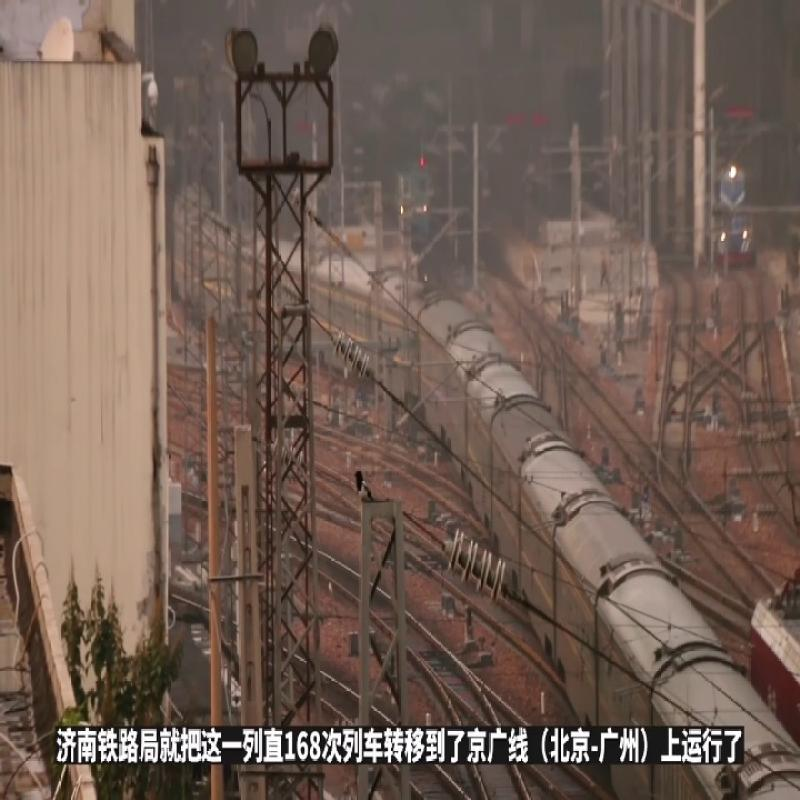train: (491, 419, 629, 679)
